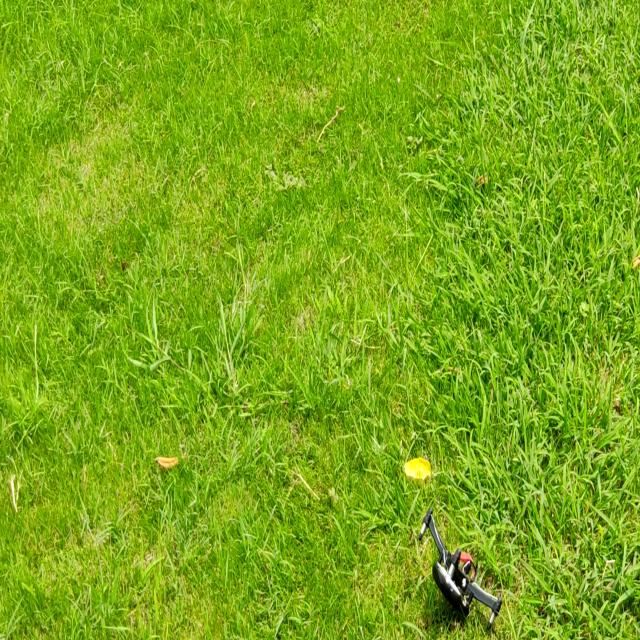drone: (394, 493, 510, 635)
